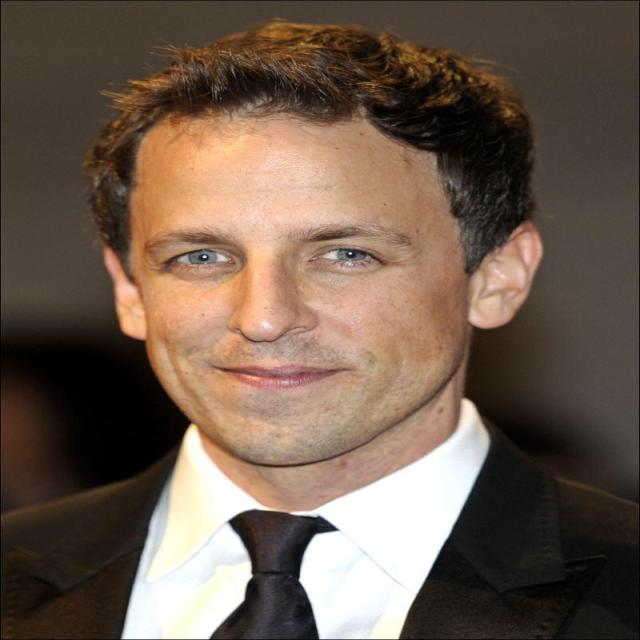0_rostro_limpio: (100, 80, 543, 470)
